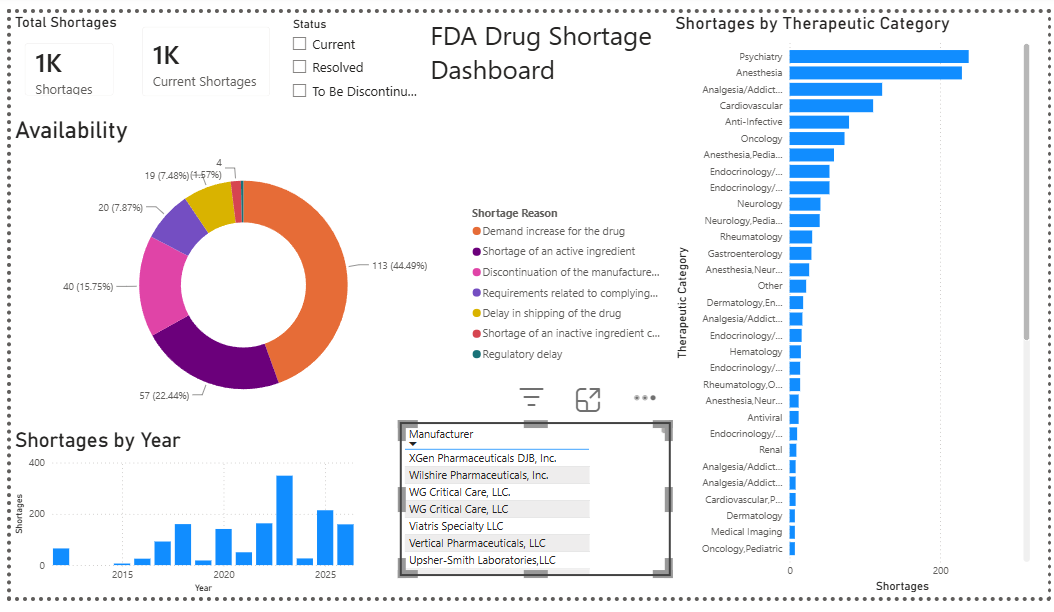

Layout of this report page (visuals, bound fields, positions):
{"tool":"powerbi","page":{"name":"Page 1","canvas":[1280,720],"ordinal":0},"visuals":[{"type":"columnChart","title":"Availability","fields":{"Category":["Drug Shortages Table.Shortage Reason"],"Y":["Drug Shortages Table.Shortages"]},"box":[0,128,816,384],"z":0},{"type":"columnChart","fields":{"Category":["Drug Shortages Table.Initial Posting Date.Variation.Date Hierarchy.Year","Drug Shortages Table.Initial Posting Date.Variation.Date Hierarchy.Quarter","Drug Shortages Table.Initial Posting Date.Variation.Date Hierarchy.Month","Drug Shortages Table.Initial Posting Date.Variation.Date Hierarchy.Day"],"Y":["Drug Shortages Table.Shortages"]},"box":[0,512,528,208],"z":1000},{"type":"barChart","fields":{"Category":["Drug Shortages Table.Therapeutic Category"],"Y":["Drug Shortages Table.Shortages"]},"box":[816,0,448,720],"z":2000},{"type":"cardVisual","title":"Total Shortages","fields":{"Data":["Drug Shortages Table.Shortages"]},"box":[0,0,208,128],"z":3000},{"type":"cardVisual","fields":{"Data":["Drug Shortages Table.Active Shortages"]},"box":[208,0,272,128],"z":4000}]}

Visuals, with their boxes on the page's 1280x720 design canvas (x1, y1, x2, y2). These are canvas units, not pixel positions in the 1054x612 screenshot, which may show the page scaled, cropped or inside an application window:
"Availability" columnChart: select_region(0, 128, 816, 512)
columnChart - Drug Shortages Table.Initial Posting Date.Variation.Date Hierarchy.Year x Drug Shortages Table.Initial Posting Date.Variation.Date Hierarchy.Quarter: select_region(0, 512, 528, 720)
barChart - Drug Shortages Table.Therapeutic Category x Drug Shortages Table.Shortages: select_region(816, 0, 1264, 720)
"Total Shortages" cardVisual: select_region(0, 0, 208, 128)
cardVisual - Drug Shortages Table.Active Shortages: select_region(208, 0, 480, 128)
